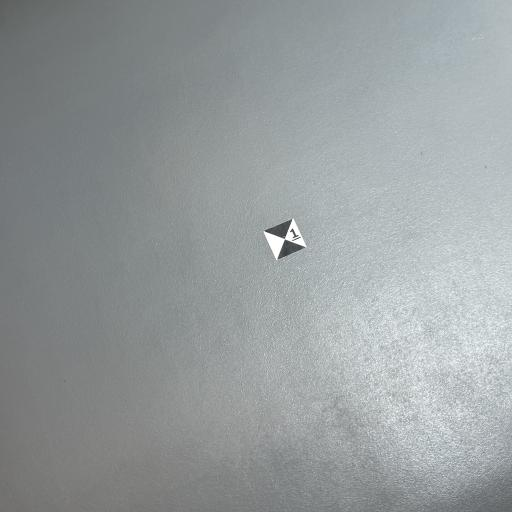target1: (262, 215, 309, 262)
